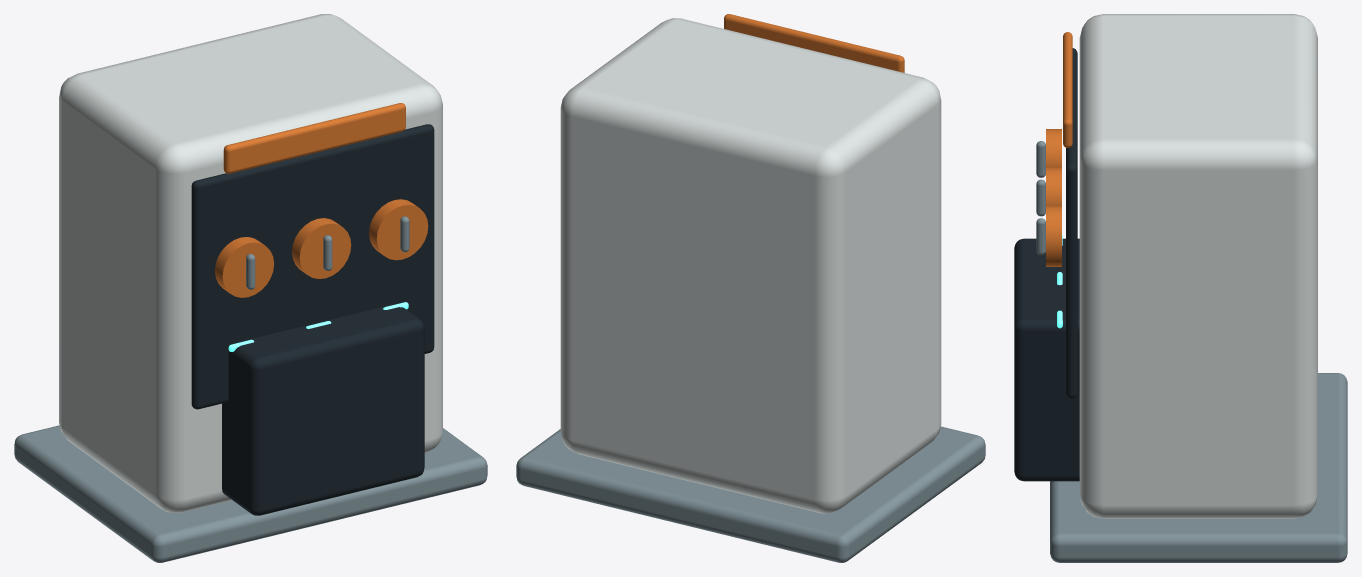
The model's file is junction.glb.
The picture shows the model from 3 angles, left to right: view 1: azimuth 30°, elevation 25°; view 2: azimuth 150°, elevation 25°; view 3: azimuth 270°, elevation 25°; orthographic projection. The views are drawn at different scales.
Parts seen in each view (by area): view 1: white, dark, metal, orange; view 2: white, metal, orange; view 3: white, metal, dark, orange.
Part boxes in pixels (x1,y1,x2,y2): white: (59,14,442,512); dark: (191,124,434,515); metal: (14,216,487,562); orange: (215,103,428,297); white: (560,18,941,513); metal: (516,426,985,562); orange: (724,14,904,72); white: (1079,14,1317,518); metal: (1036,141,1347,562); dark: (1014,48,1079,481); orange: (1046,32,1072,266).
Bounding box in the file's own units: 1 × 1.13 × 0.84.
